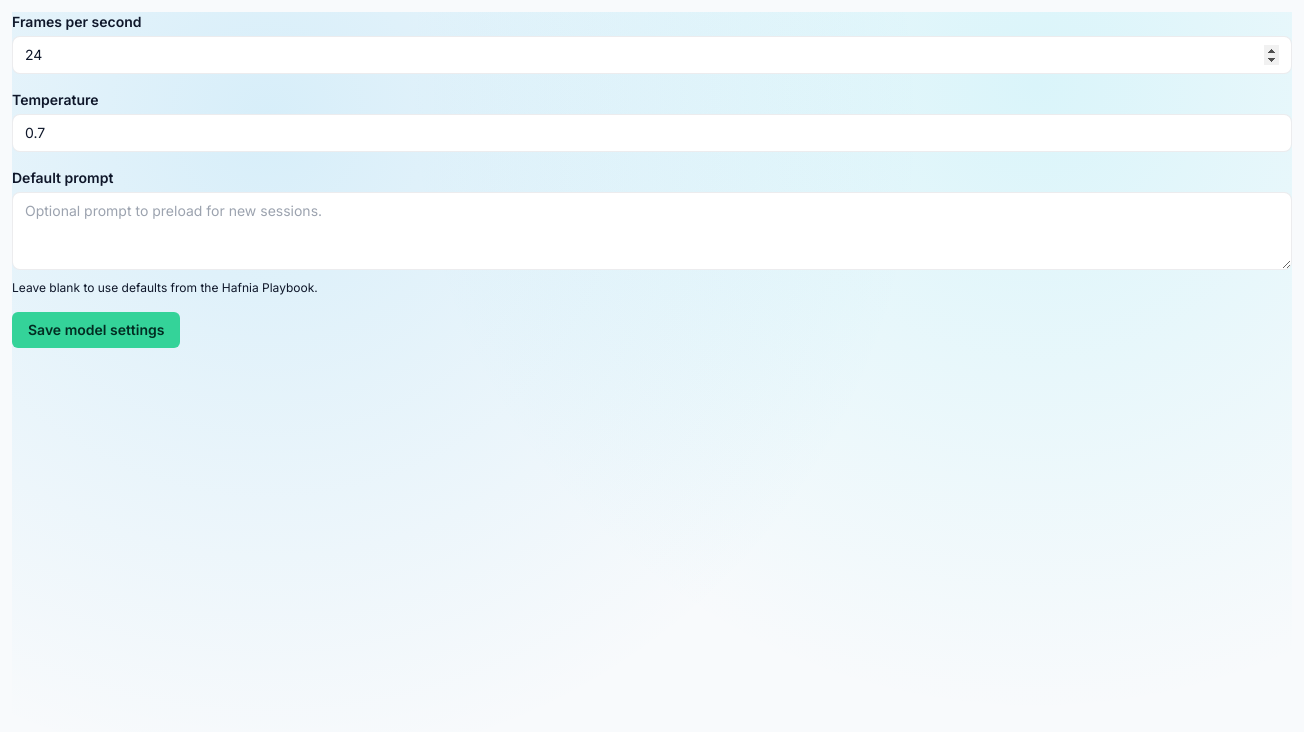
Test case: saas-settings ModelParamsForm › rejects_temperature_values_above_maximum
Replace the text in the number field labelled "Temperature" with "2.5" at (652, 133), box [12, 114, 1292, 152]
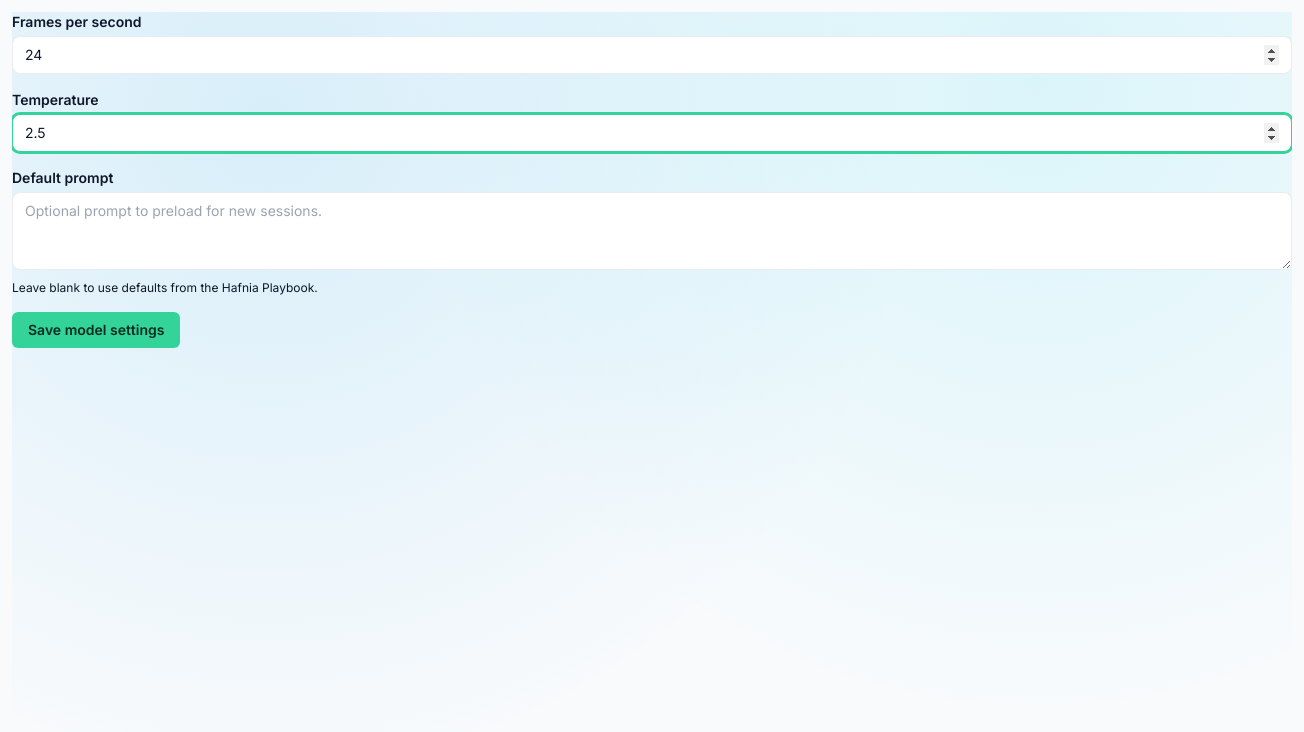
Click the button "Save model settings".
click(96, 330)  # box [12, 312, 180, 348]
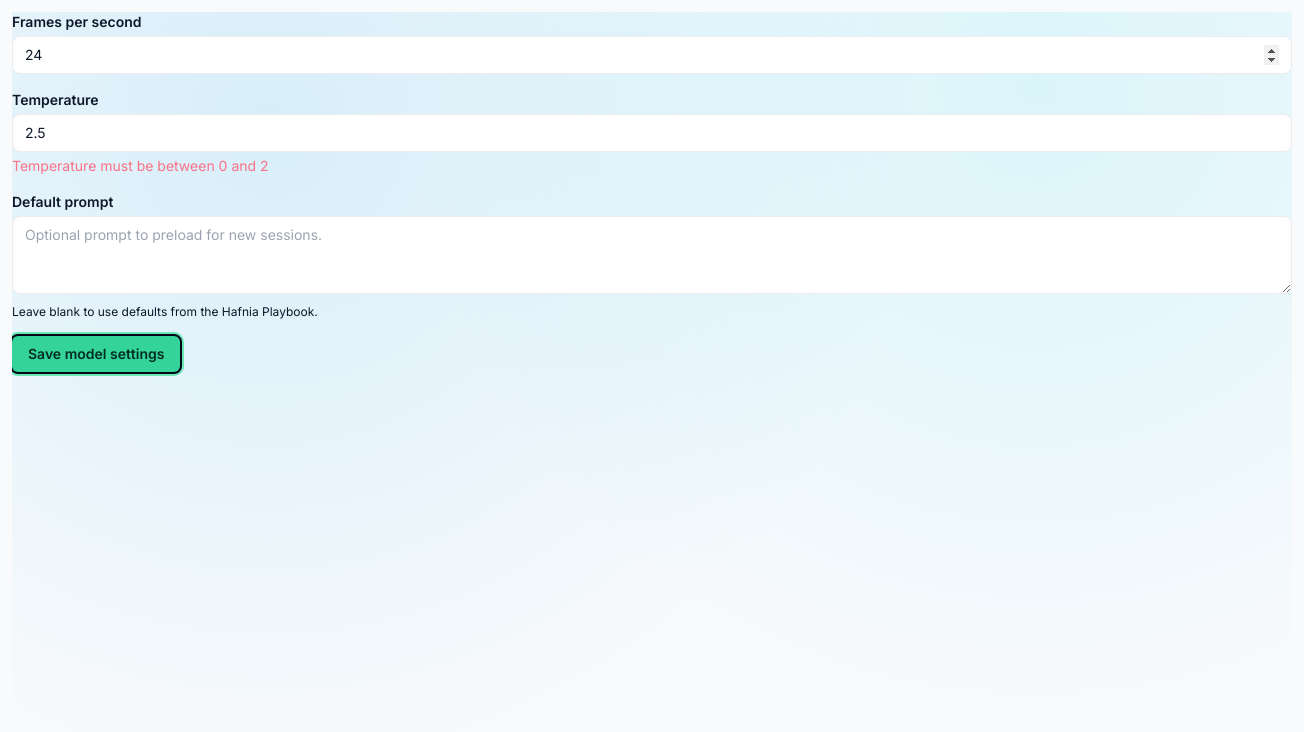
Expected: the text "Temperature must be between 0 and 2" is shown, [12, 157, 269, 174]
